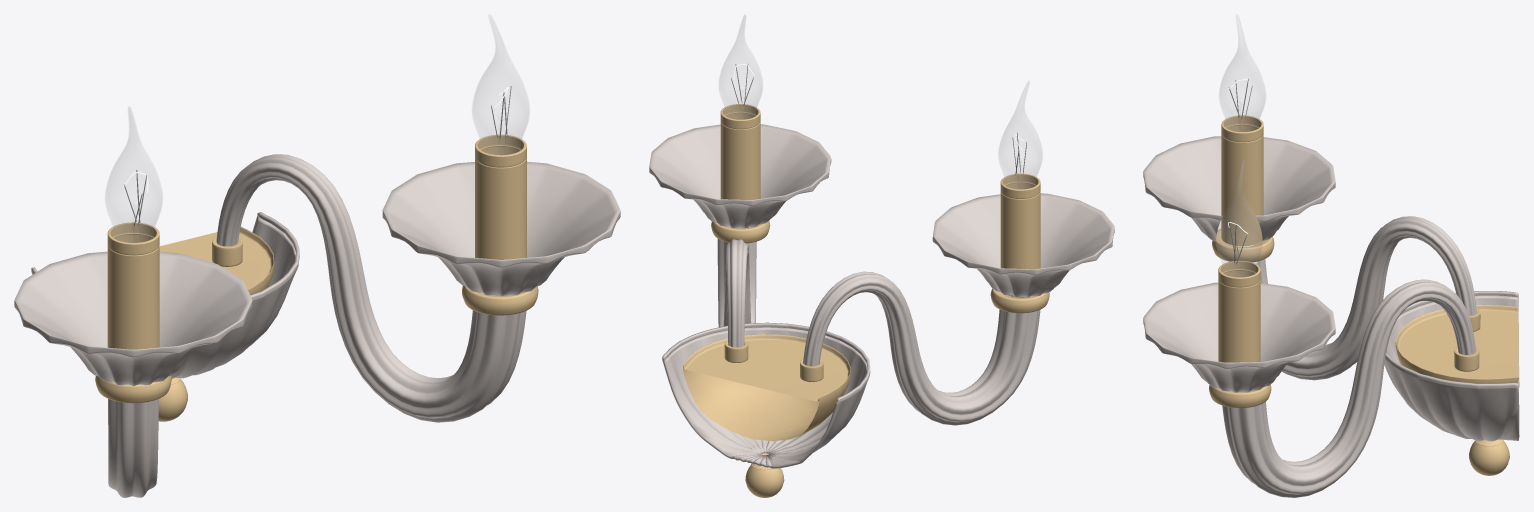
File: Dream AP2.glb
3 views of the same model, side by side, from view 1: azimuth 30°, elevation 25°; view 2: azimuth 150°, elevation 25°; view 3: azimuth 270°, elevation 25° (orthographic). The views are drawn at different scales.
Visible parts, largest first — view 1: Glass, Metal, Lampochki; view 2: Glass, Metal, Lampochki; view 3: Glass, Metal, Lampochki.
Boxes of the visible parts, x1,y1,x2,y2 form: Glass: (14,154,620,497); Metal: (95,134,538,421); Lampochki: (105,15,529,242); Glass: (649,124,1114,468); Metal: (683,104,1049,497); Lampochki: (719,15,1042,188); Glass: (1143,136,1519,497); Metal: (1209,115,1518,475); Lampochki: (1216,14,1265,276).
Bounding box in the file's own units: 0.4435 × 0.35 × 0.3098.
